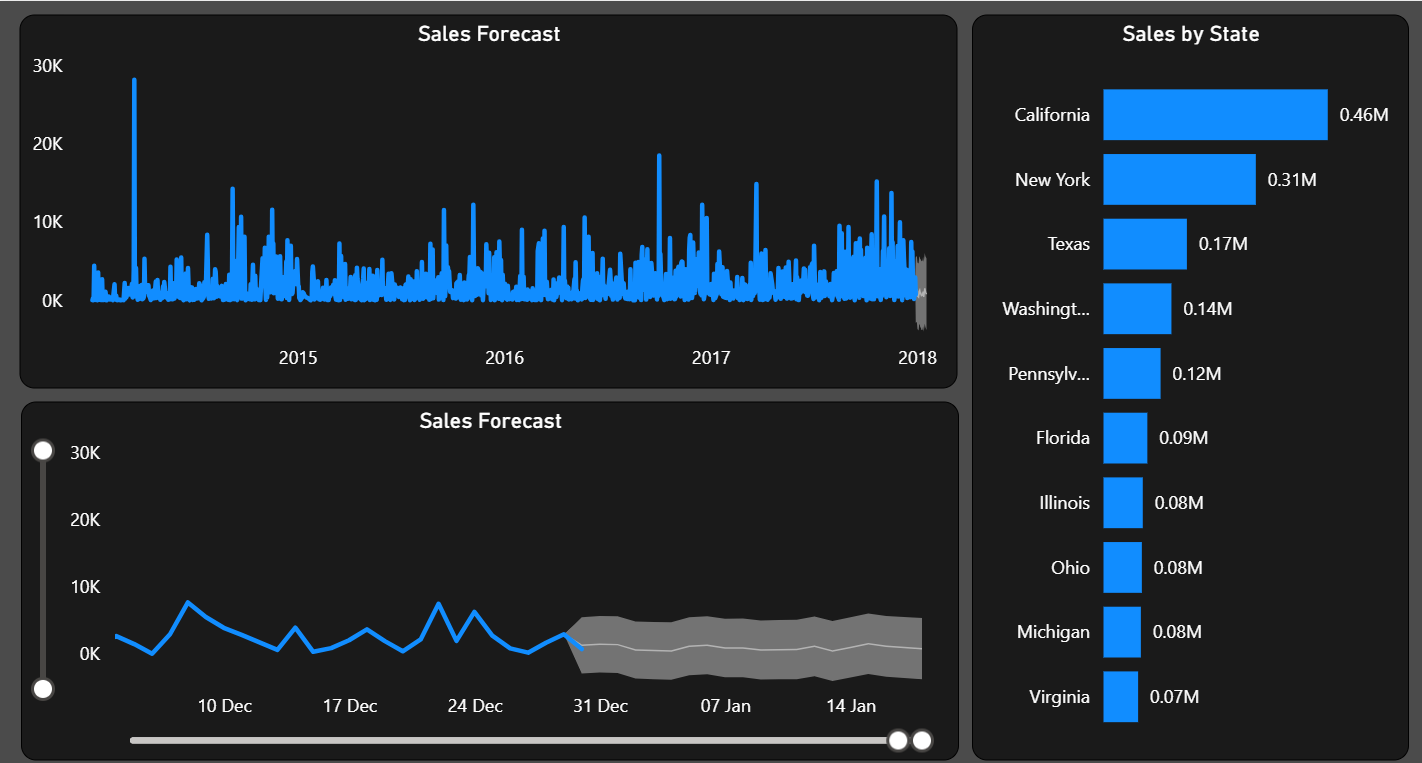

This screenshot's page, from the dashboard's own definition file:
{"tool":"powerbi","page":{"name":"Sales Forecasting","canvas":[1280,720],"ordinal":1},"visuals":[{"type":"lineChart","title":"Sales Forecast ","fields":{"Y":["Sum(Sample - Superstore.Sales)"],"Category":["Sample - Superstore.Order Date.Variation.Date Hierarchy.Year","Sample - Superstore.Order Date.Variation.Date Hierarchy.Month","Sample - Superstore.Order Date.Variation.Date Hierarchy.Day"]},"box":[15,9,625,249],"z":0},{"type":"lineChart","title":"Sales Forecast","fields":{"Y":["Sum(Sample - Superstore.Sales)"],"Category":["Sample - Superstore.Order Date.Variation.Date Hierarchy.Year","Sample - Superstore.Order Date.Variation.Date Hierarchy.Month","Sample - Superstore.Order Date.Variation.Date Hierarchy.Day"]},"box":[16,267,625,239],"z":1000},{"type":"barChart","title":"Sales by State","fields":{"Category":["Sample - Superstore.State"],"Y":["Sum(Sample - Superstore.Sales)"]},"box":[650,9,291,497],"z":2000}]}

Visuals, with their boxes on the page's 1280x720 design canvas (x1, y1, x2, y2). These are canvas units, not pixel positions in the 1422x763 screenshot, which may show the page scaled, cropped or inside an application window:
"Sales Forecast " lineChart: BBox(15, 9, 640, 258)
"Sales Forecast" lineChart: BBox(16, 267, 641, 506)
"Sales by State" barChart: BBox(650, 9, 941, 506)
